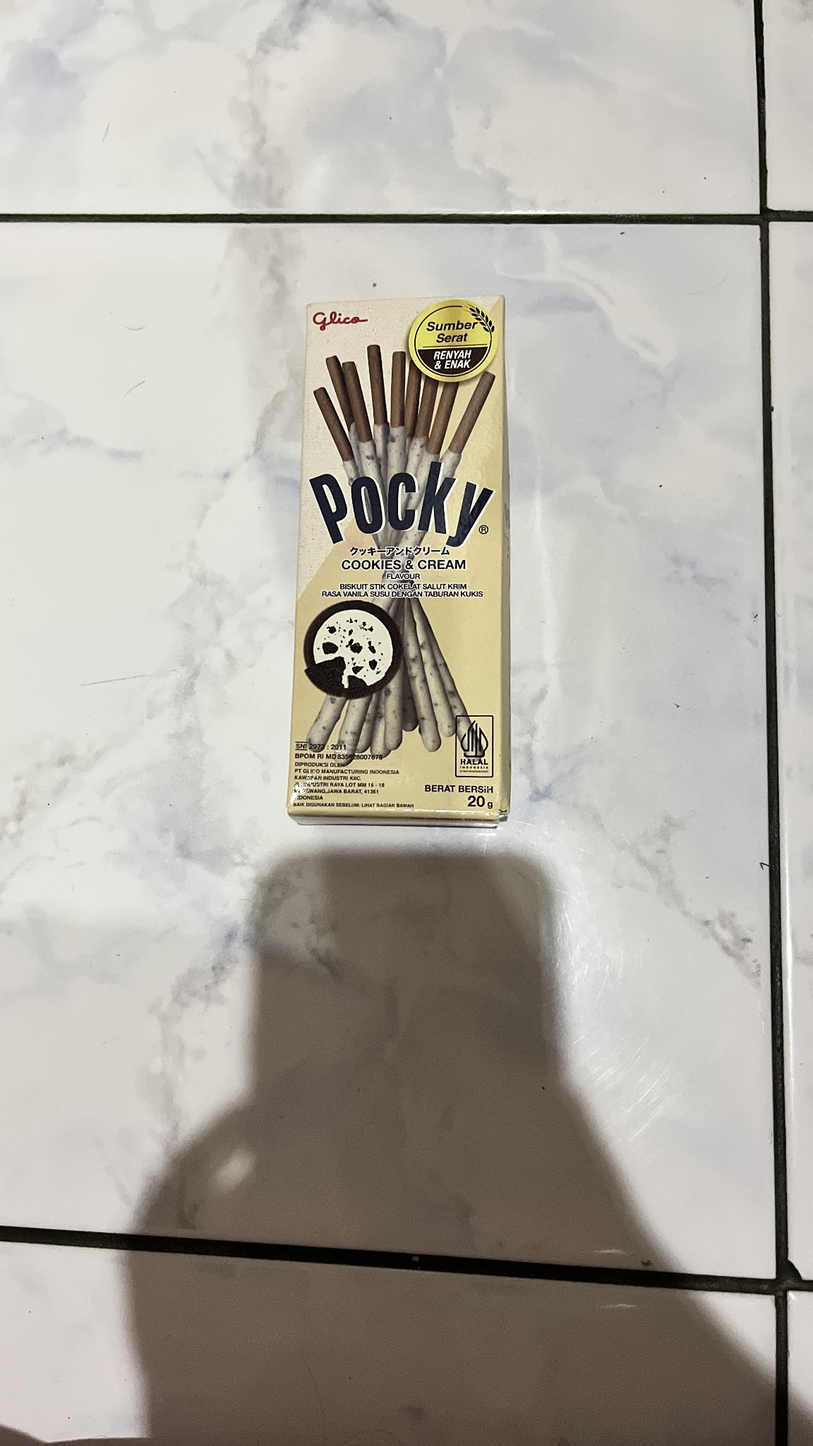Kertas: (301, 298, 502, 818)
